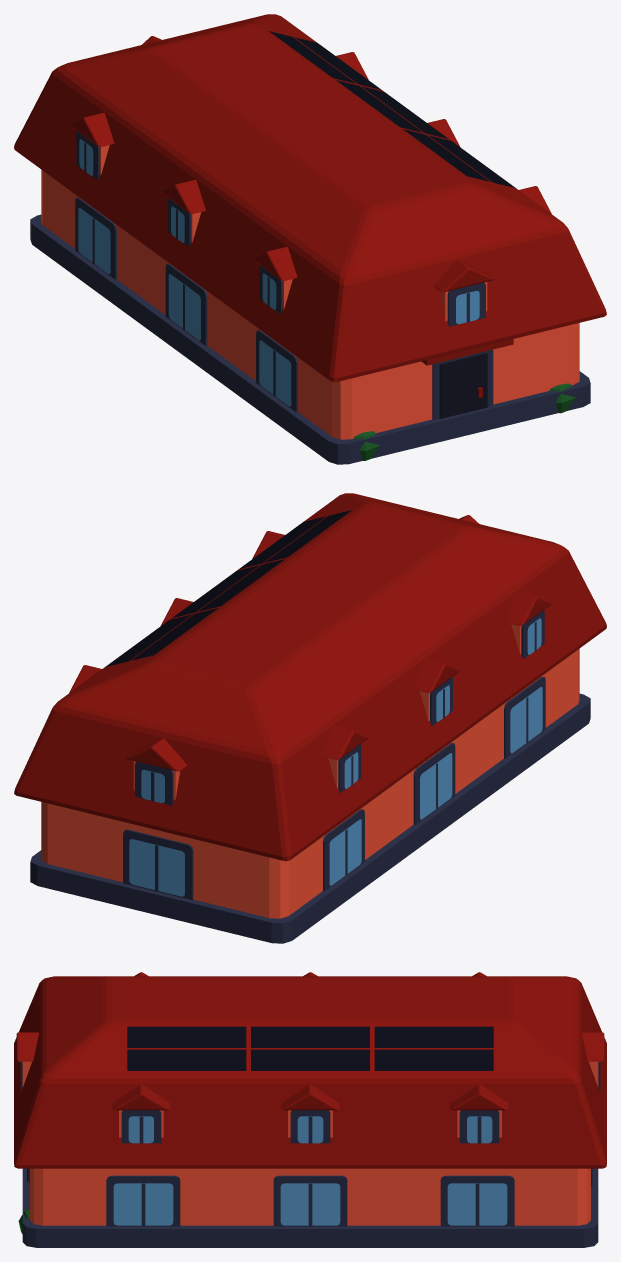
File: house-1x2-1f-mansard-c-solar.glb
3 renders of one model, top to bottom at view 1: azimuth 30°, elevation 25°; view 2: azimuth 150°, elevation 25°; view 3: azimuth 270°, elevation 25°, orthographic. The views are drawn at different scales.
Visible parts, largest first — view 1: house-1x2-1f-mansard-c-solar; view 2: house-1x2-1f-mansard-c-solar; view 3: house-1x2-1f-mansard-c-solar.
Part boxes in pixels (<box>): house-1x2-1f-mansard-c-solar: <box>14,14,606,464</box>; house-1x2-1f-mansard-c-solar: <box>14,493,606,943</box>; house-1x2-1f-mansard-c-solar: <box>14,972,606,1247</box>.
Size of the model in its own units: 0.9876 by 0.7026 by 1.99.
1 material, 1 textured.
